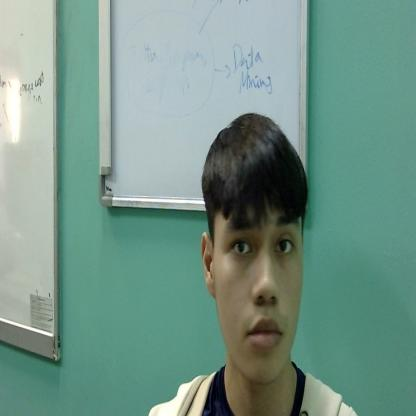Open-Eyes: (221, 205, 300, 270)
